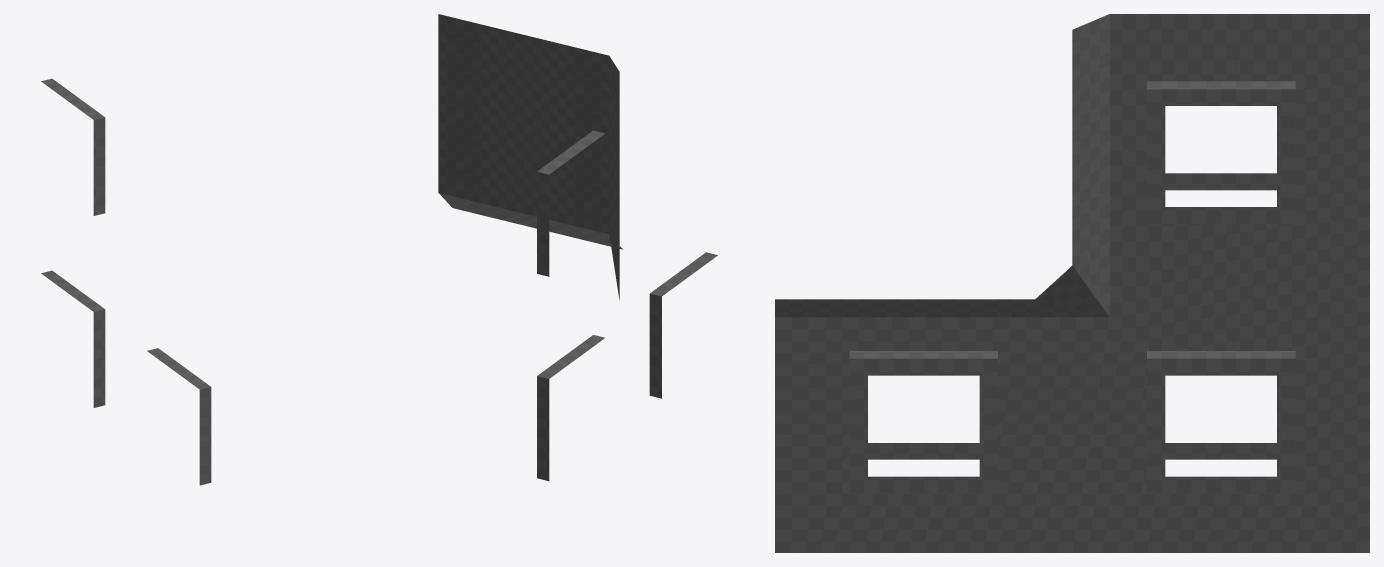
3 views of the same model, side by side, from view 1: azimuth 30°, elevation 25°; view 2: azimuth 150°, elevation 25°; view 3: azimuth 270°, elevation 25° (orthographic). The views are drawn at different scales.
Parts seen in each view (by area): view 1: CubeDownBackRight5V3; view 2: CubeDownBackRight5V3; view 3: CubeDownBackRight5V3.
Part boxes in pixels (x1,y1,x2,y2): CubeDownBackRight5V3: (41,78,211,485); CubeDownBackRight5V3: (438,14,717,480); CubeDownBackRight5V3: (775,14,1369,552).
Size of the model in its own units: 2 by 4 by 4.
Materials: 1 (1 with a texture image).
